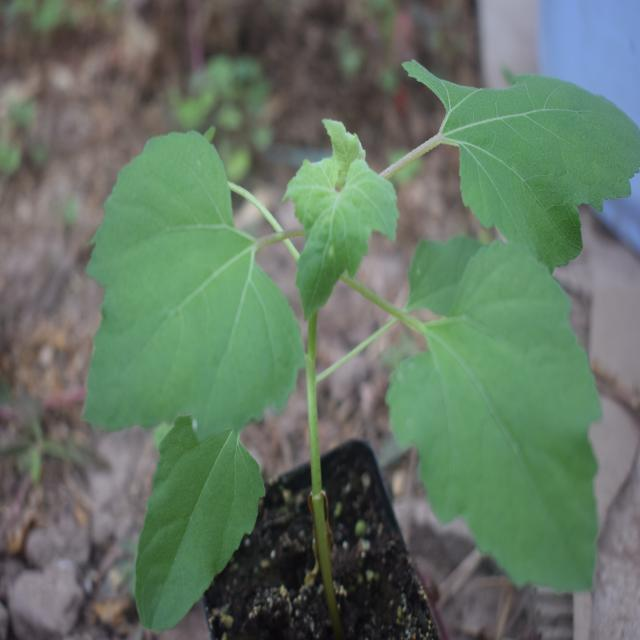cocklebur: (66, 82, 615, 594)
